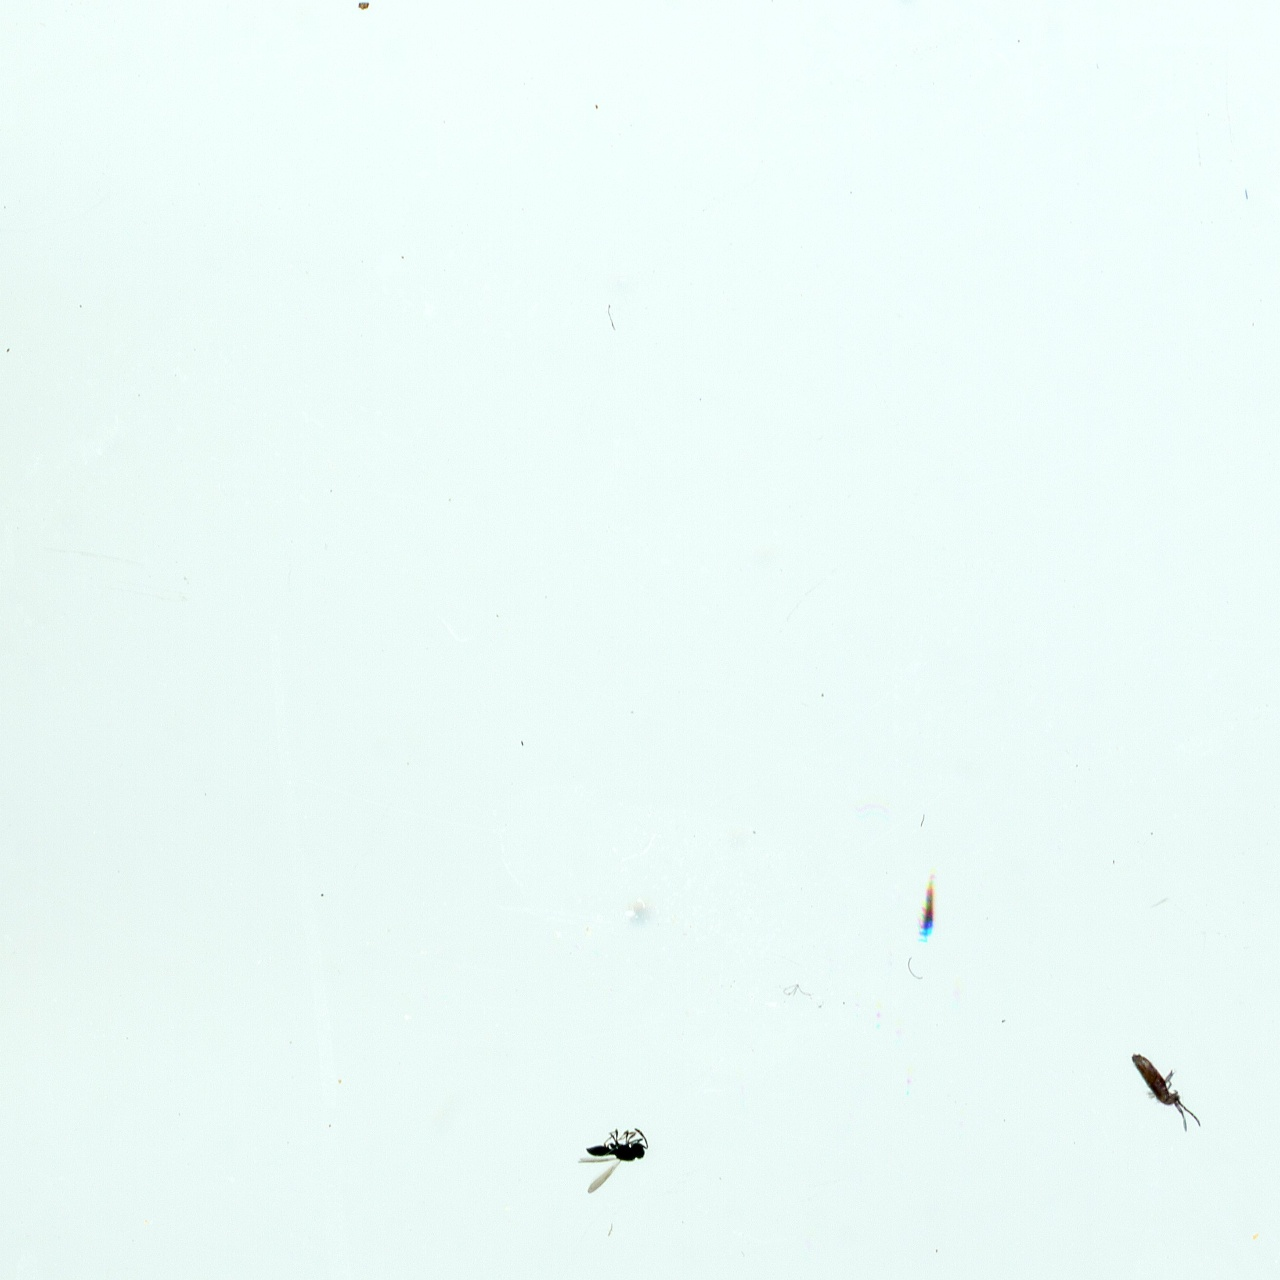arthropod: (1109, 1028, 1217, 1155), (570, 1122, 656, 1200)
